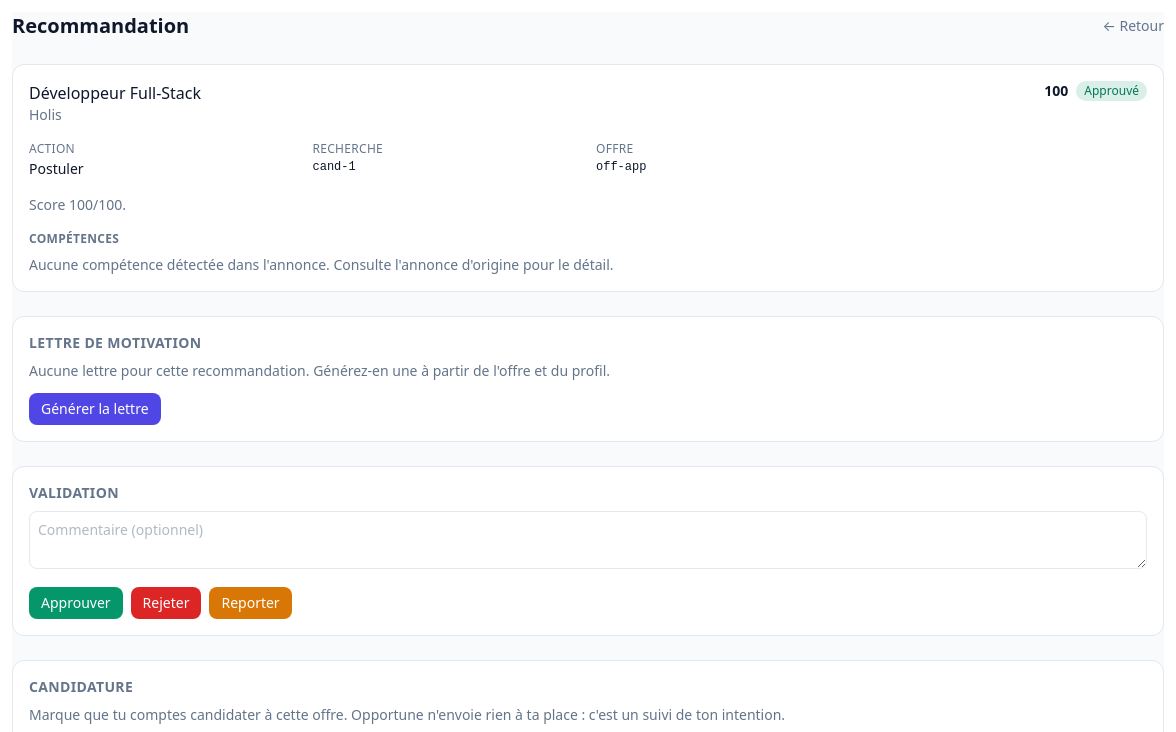
LetterPanel (OPP-147) › aucune lettre (404) → bouton Générer, puis la lettre générée s'affiche
The width and height of the screenshot is (1176, 732).
Click the button "Générer la lettre": (95, 409) [29,393,161,425]
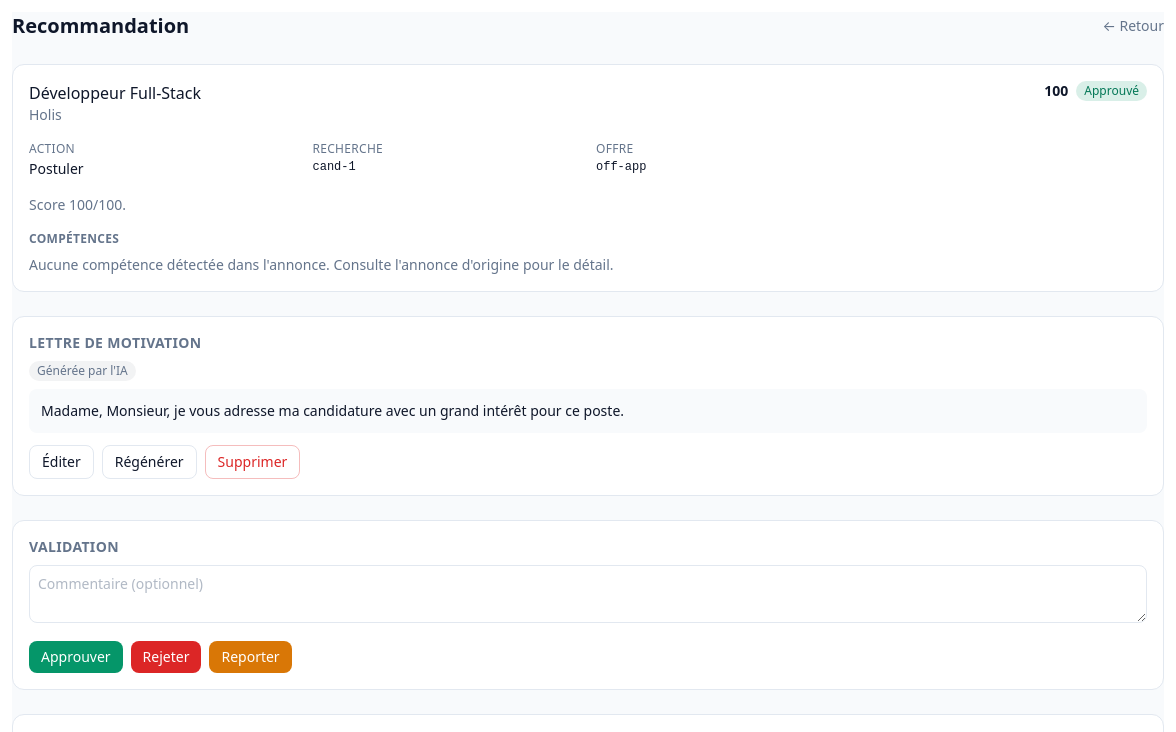
Result: the text "Générée par l'IA" is shown at [29,361,136,381]
